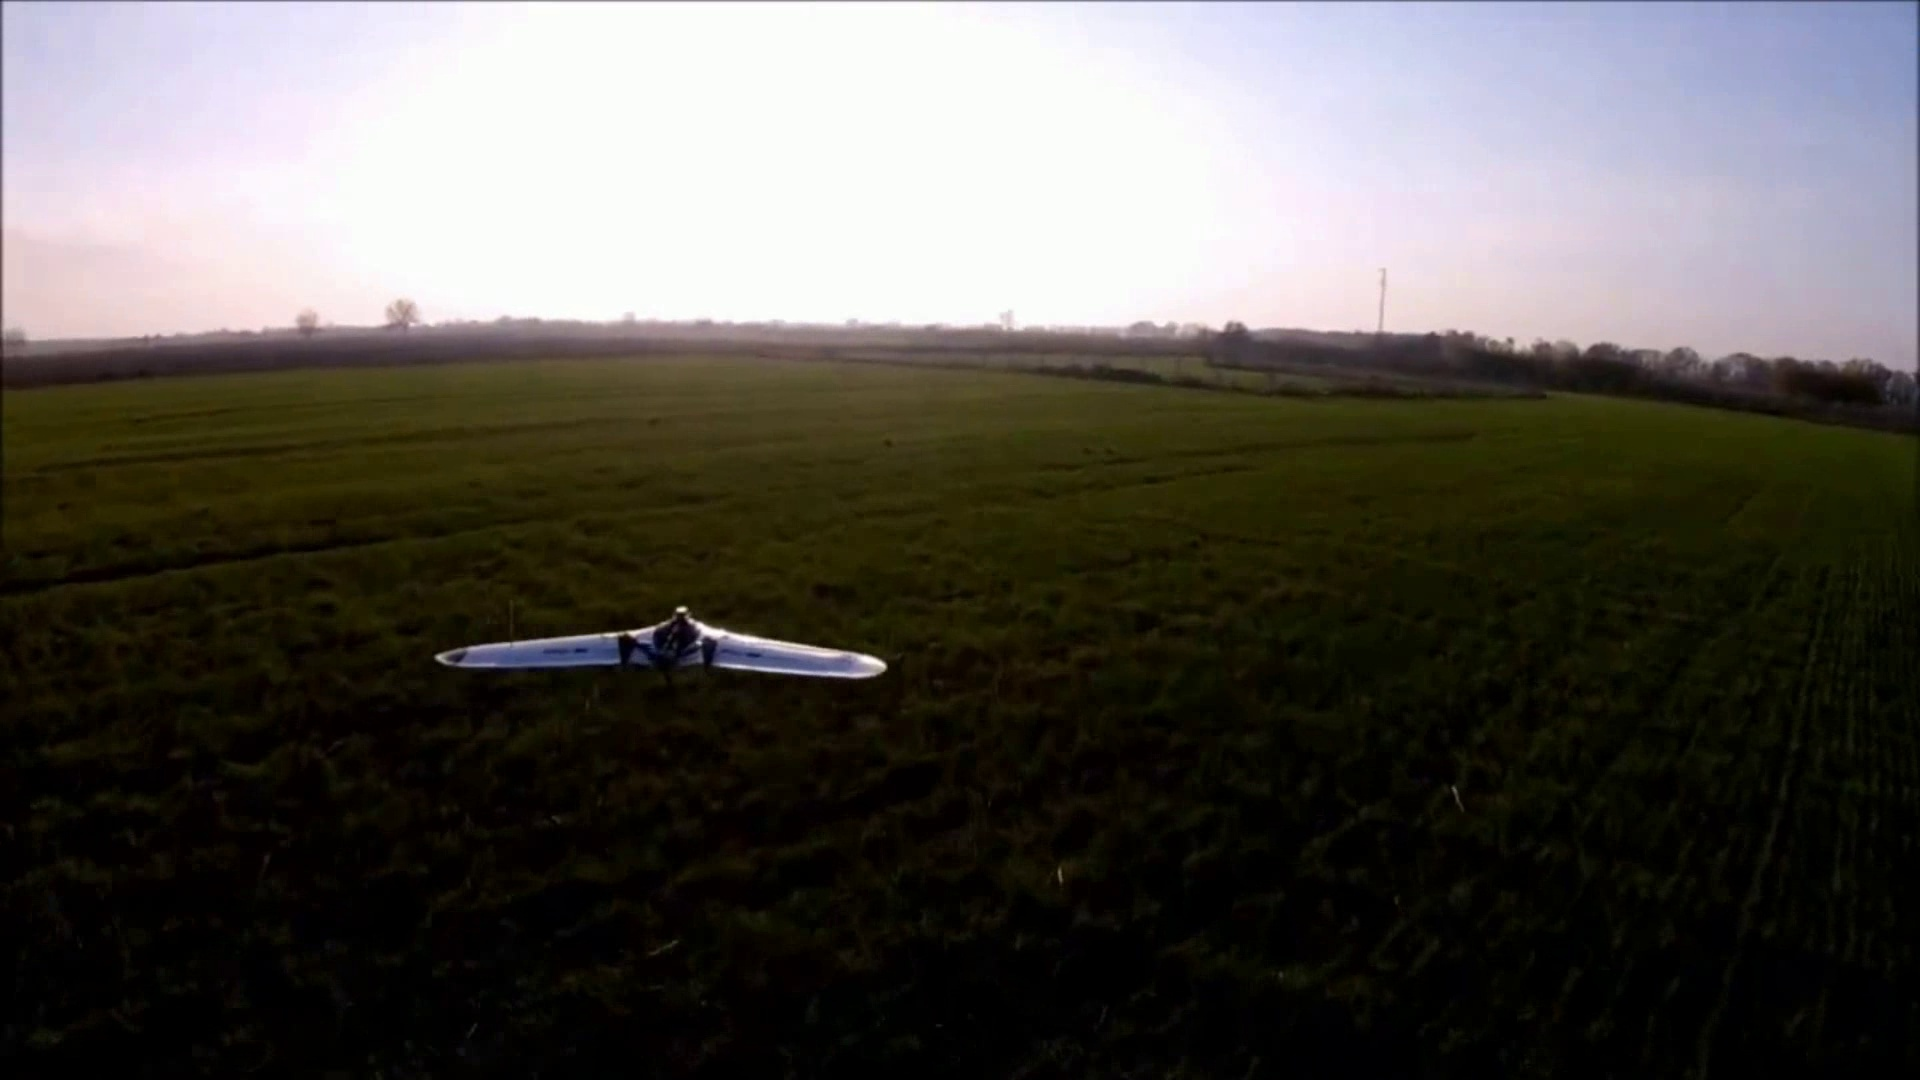airplane: (433, 603, 886, 680)
